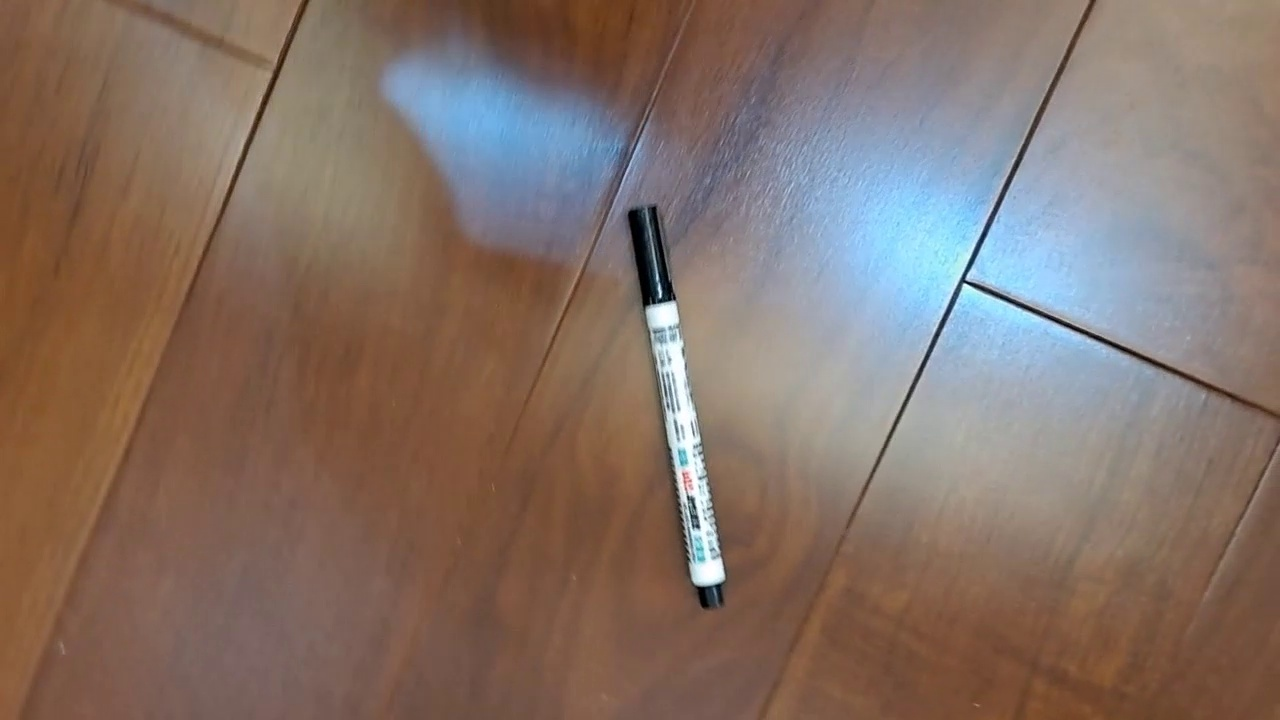pen: (625, 202, 728, 612)
